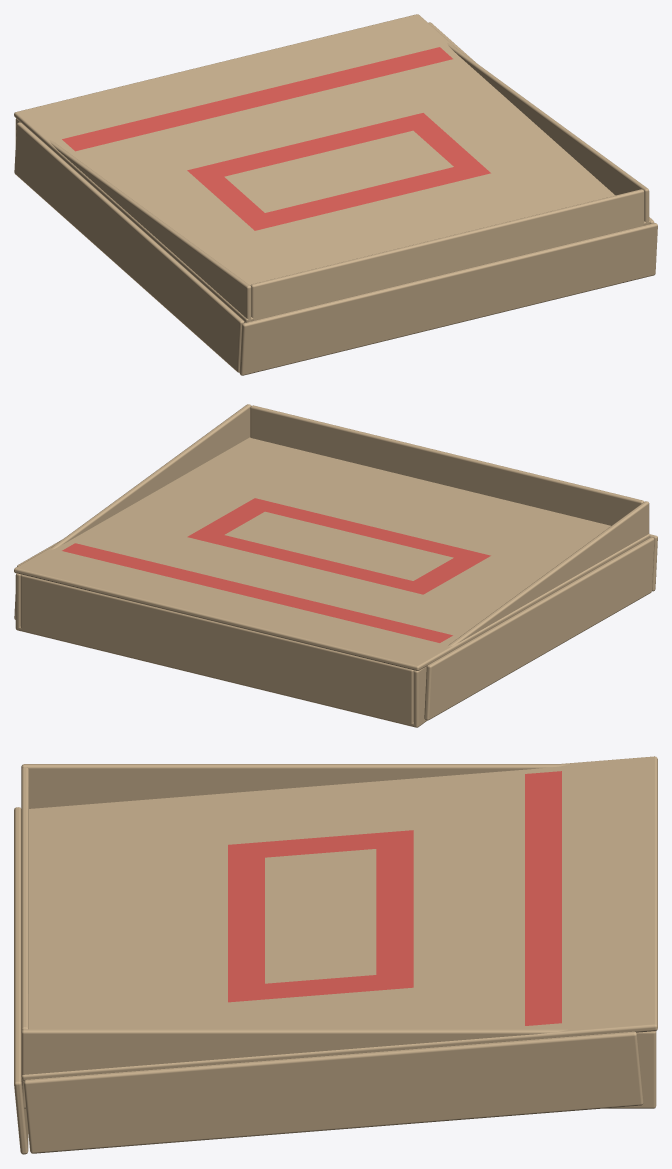
The model's file is kitchen_pizza_box_closed.fbx.
3 renders of one model, top to bottom at view 1: azimuth 30°, elevation 25°; view 2: azimuth 150°, elevation 25°; view 3: azimuth 270°, elevation 25°, orthographic. The views are drawn at different scales.
Parts seen in each view (by area): view 1: kitchen_pizza_box_closed; view 2: kitchen_pizza_box_closed; view 3: kitchen_pizza_box_closed.
Boxes of the visible parts, bbox=[...] form: kitchen_pizza_box_closed: bbox=[14, 14, 657, 375]; kitchen_pizza_box_closed: bbox=[14, 404, 657, 727]; kitchen_pizza_box_closed: bbox=[14, 756, 657, 1154].
Size of the model in its own units: 0.34 by 0.0729 by 0.3346.
